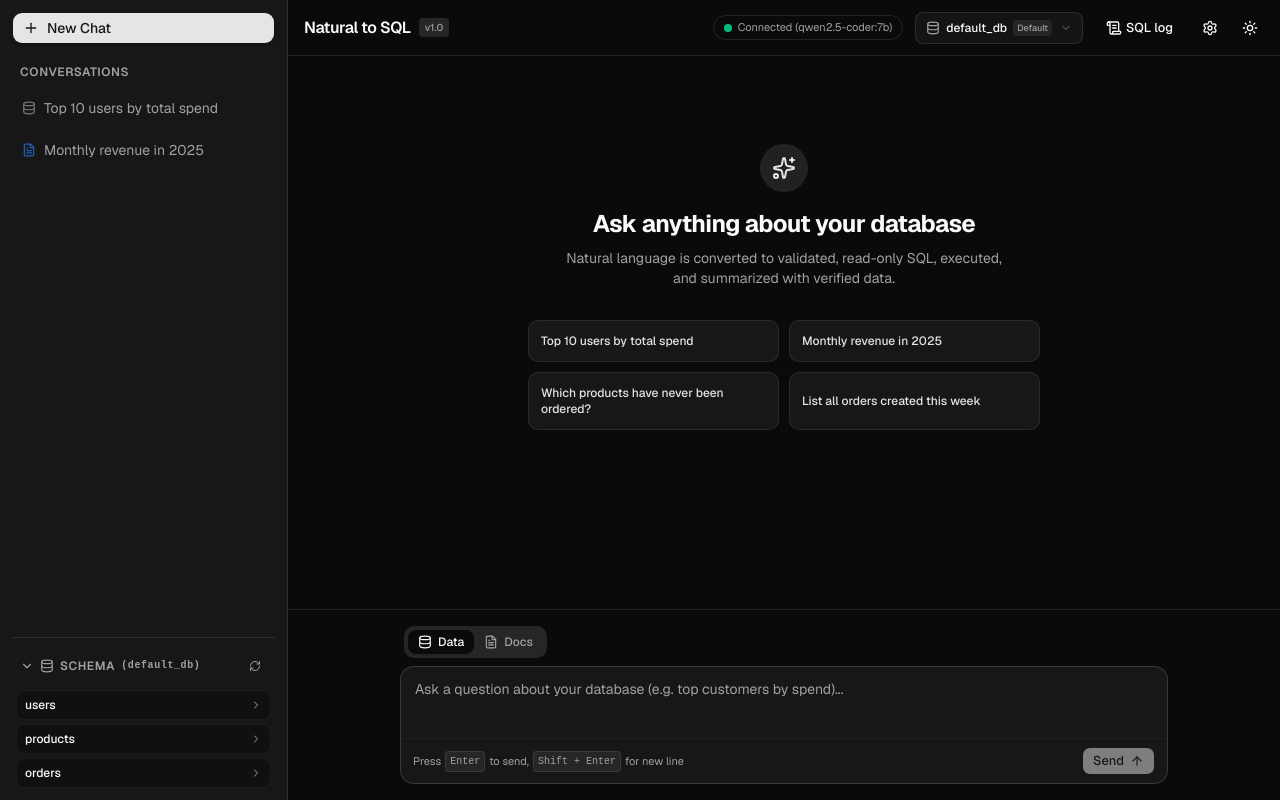
ChatLayout Component › toggles between Data and Docs mode and updates placeholder and empty state
The image size is (1280, 800).
Check: the text box with placeholder "Ask a question about your database" is shown, box [401, 667, 1167, 731]
Check: the heading "Ask anything about your database" is shown, box [593, 208, 975, 240]
Note: Switch to Docs mode
Click the radio button with aria-label "docs mode".
click(509, 642)  # box [474, 630, 543, 654]
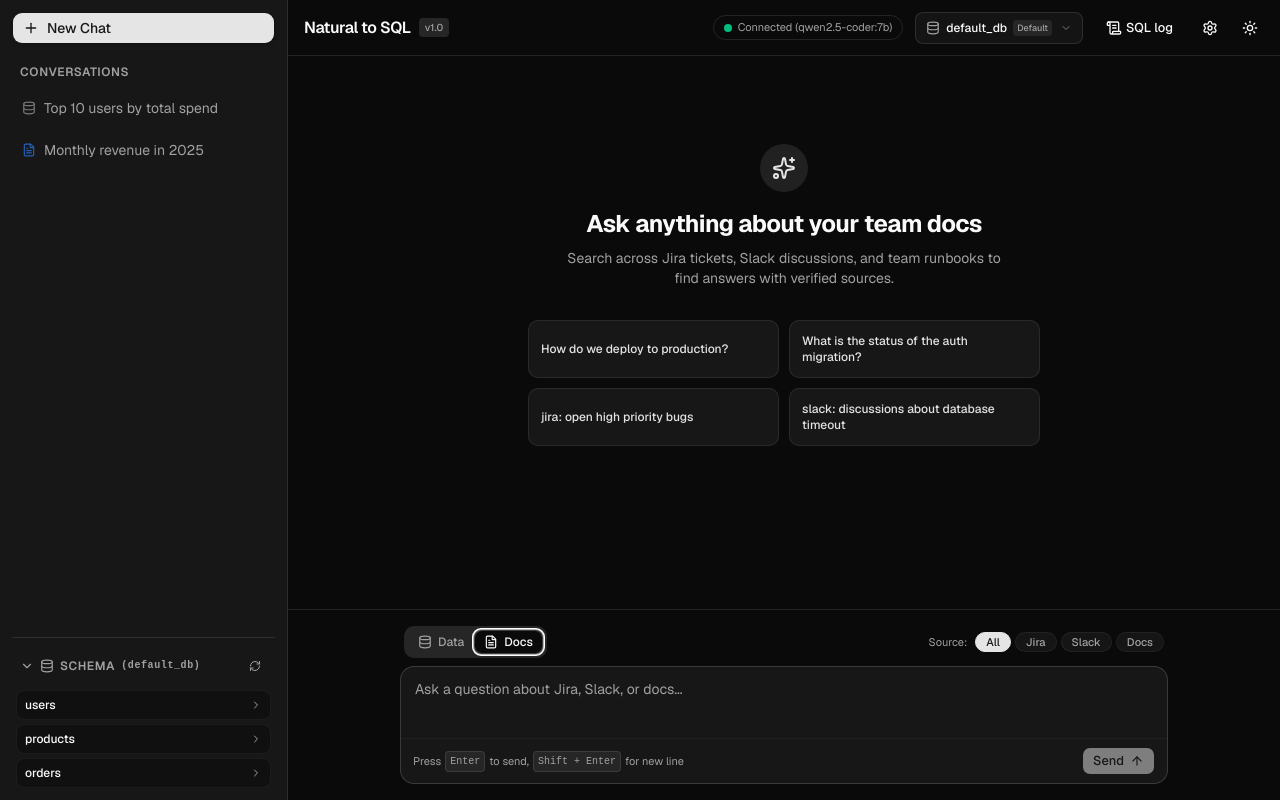
Check: the text box with placeholder "Ask a question about Jira, Slack, or docs..." is shown, box [401, 667, 1167, 731]
Check: the heading "Ask anything about your team docs" is shown, box [586, 208, 982, 240]
Check: the button "How do we deploy to production?" is shown
Click the button "How do we deploy to production?".
click(654, 349)  # box [528, 320, 779, 378]
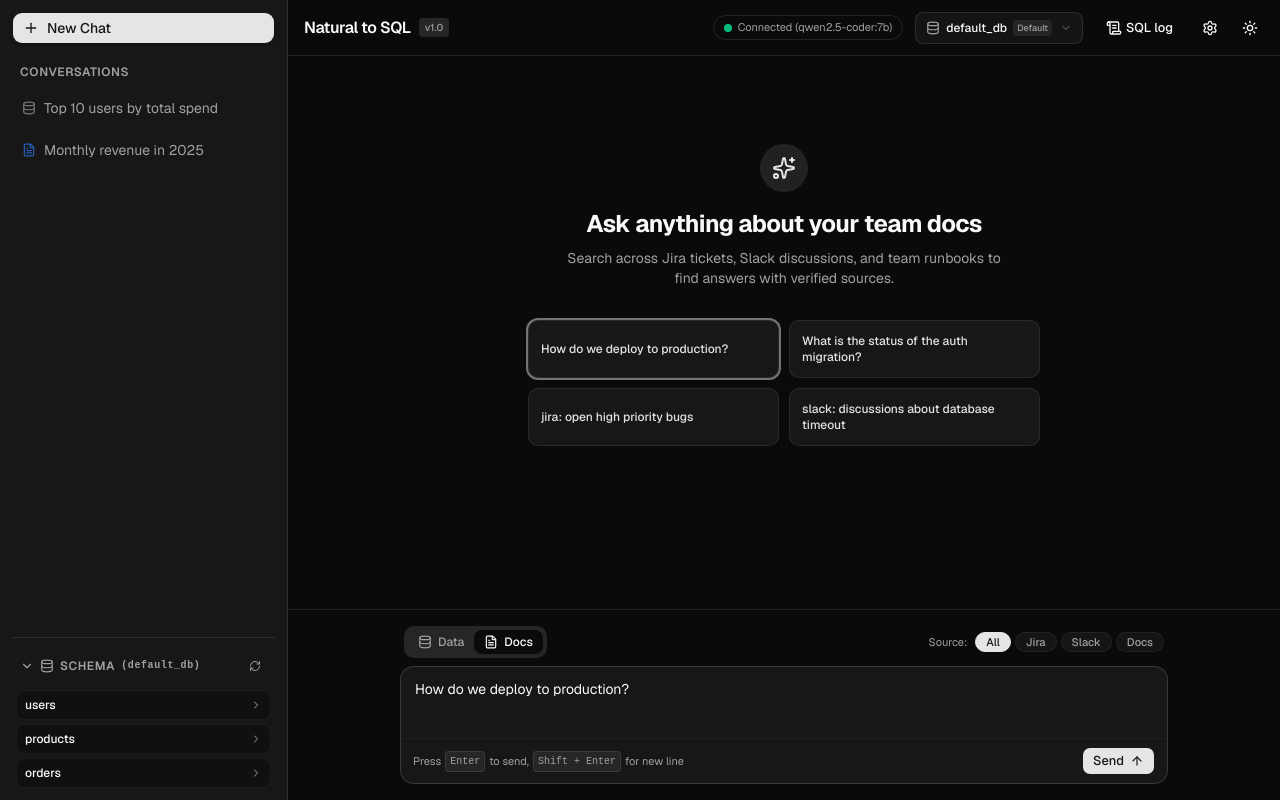
Check: the text box with placeholder "Ask a question about Jira, Slack, or docs..." holds "How do we deploy to production?", box [401, 667, 1167, 731]
